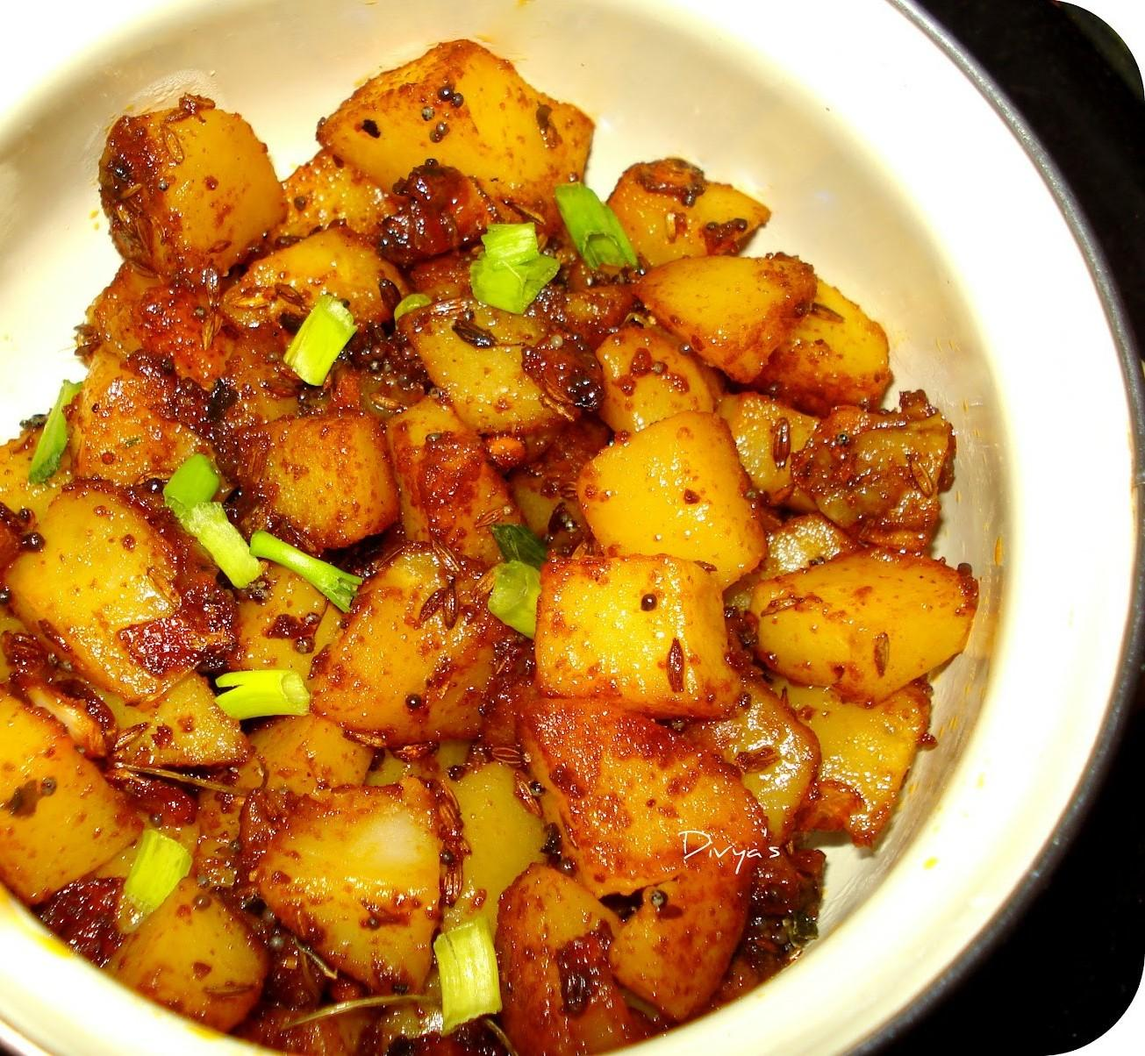AlooMasala: (0, 42, 979, 1056)
